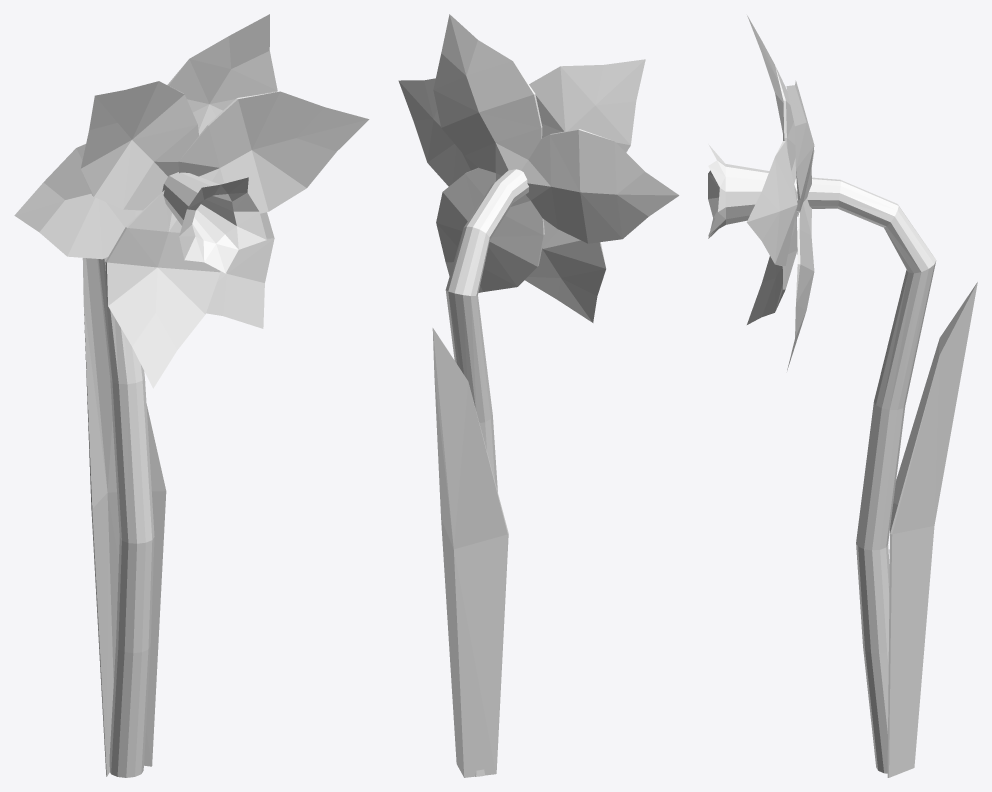
The model's file is Env_Daffodil_High_Detail_01.glb.
3 views of the same model, side by side, from view 1: azimuth 30°, elevation 25°; view 2: azimuth 150°, elevation 25°; view 3: azimuth 270°, elevation 25° (orthographic). The views are drawn at different scales.
Parts seen in each view (by area): view 1: Env_Daffodil_High_Detail_01; view 2: Env_Daffodil_High_Detail_01; view 3: Env_Daffodil_High_Detail_01.
Boxes of the visible parts, box(x1,y1,x2,y2) form: Env_Daffodil_High_Detail_01: box(14, 14, 369, 777); Env_Daffodil_High_Detail_01: box(398, 14, 679, 777); Env_Daffodil_High_Detail_01: box(708, 15, 977, 777).
Bounding box in the file's own units: 0.2021 × 0.4496 × 0.1527.
1 material, 1 textured.
